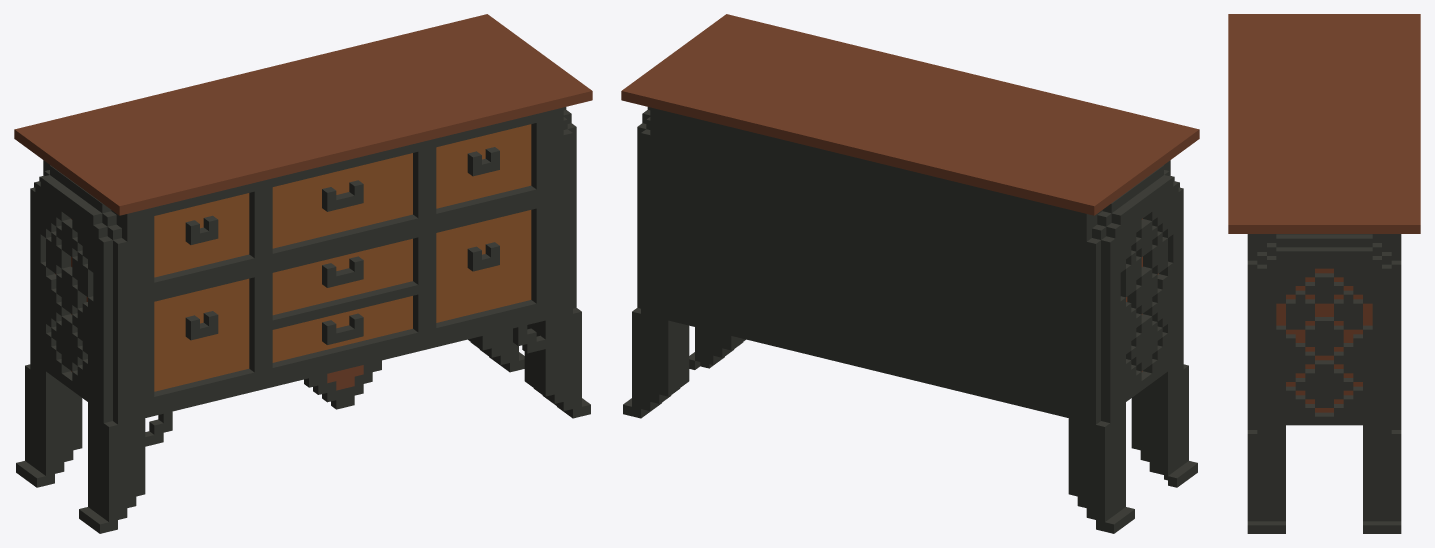
The model's file is Commode 3.obj.
3 renders of one model, left to right at view 1: azimuth 30°, elevation 25°; view 2: azimuth 150°, elevation 25°; view 3: azimuth 270°, elevation 25°, orthographic. The views are drawn at different scales.
Visible parts, largest first — view 1: Commode 3; view 2: Commode 3; view 3: Commode 3.
Part boxes in pixels (x1,y1,x2,y2): Commode 3: (14, 14, 592, 533); Commode 3: (621, 14, 1199, 533); Commode 3: (1228, 14, 1420, 533).
Bounding box in the file's own units: 54 × 35 × 20.
Materials: 1 (1 with a texture image).
